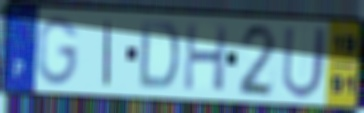2: (237, 22, 280, 99)
D: (136, 18, 181, 93)
G: (36, 15, 82, 88)
H: (182, 21, 230, 94)
I: (101, 18, 113, 89)
U: (280, 24, 330, 102)
